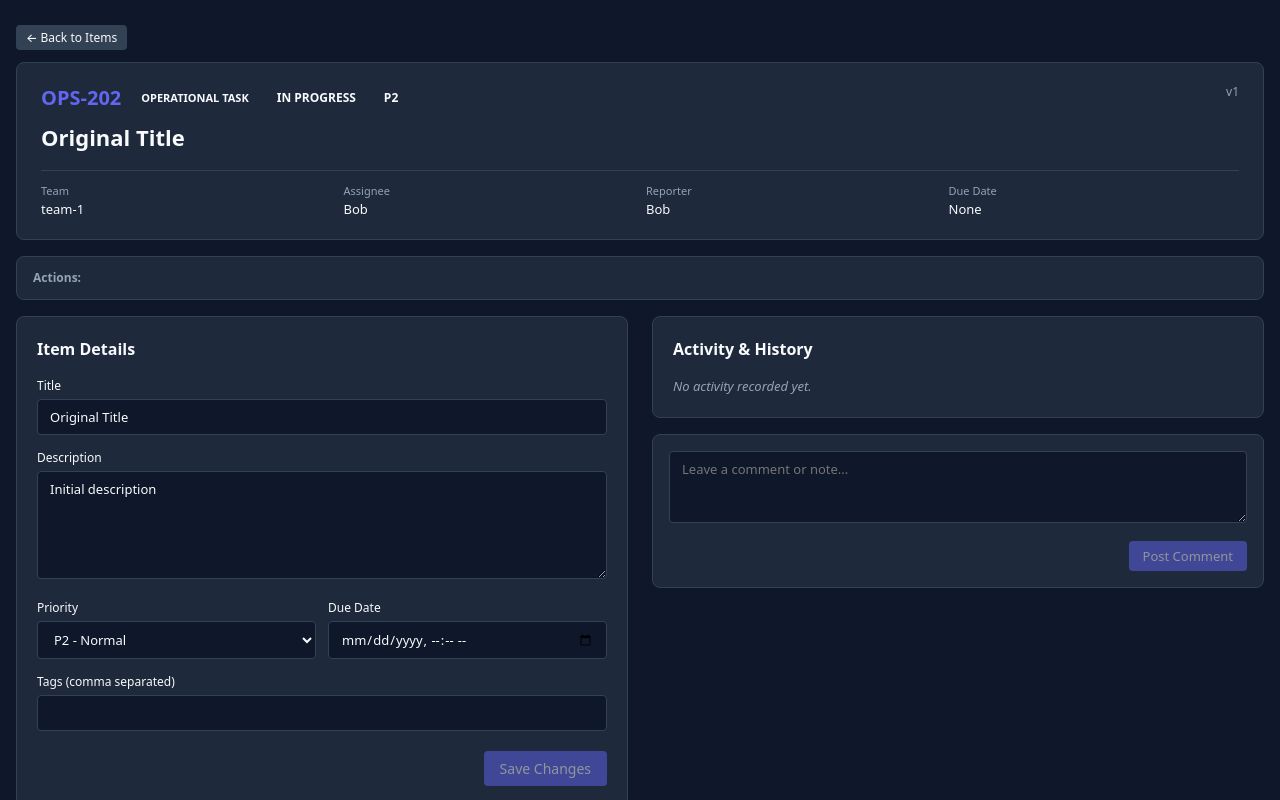
Test: conflict-banner › shows ConflictBanner on 409 version_conflict, preserves draft, and re-apply sends current version
Expected: the text "OPS-202" is shown, top-left (41, 83), bottom-right (121, 113)
User types draft changes
Step 1. Replace the text in the 1st field showing "Original Title" with "My Draft Update" → (322, 417), box top-left (37, 399), bottom-right (607, 435)
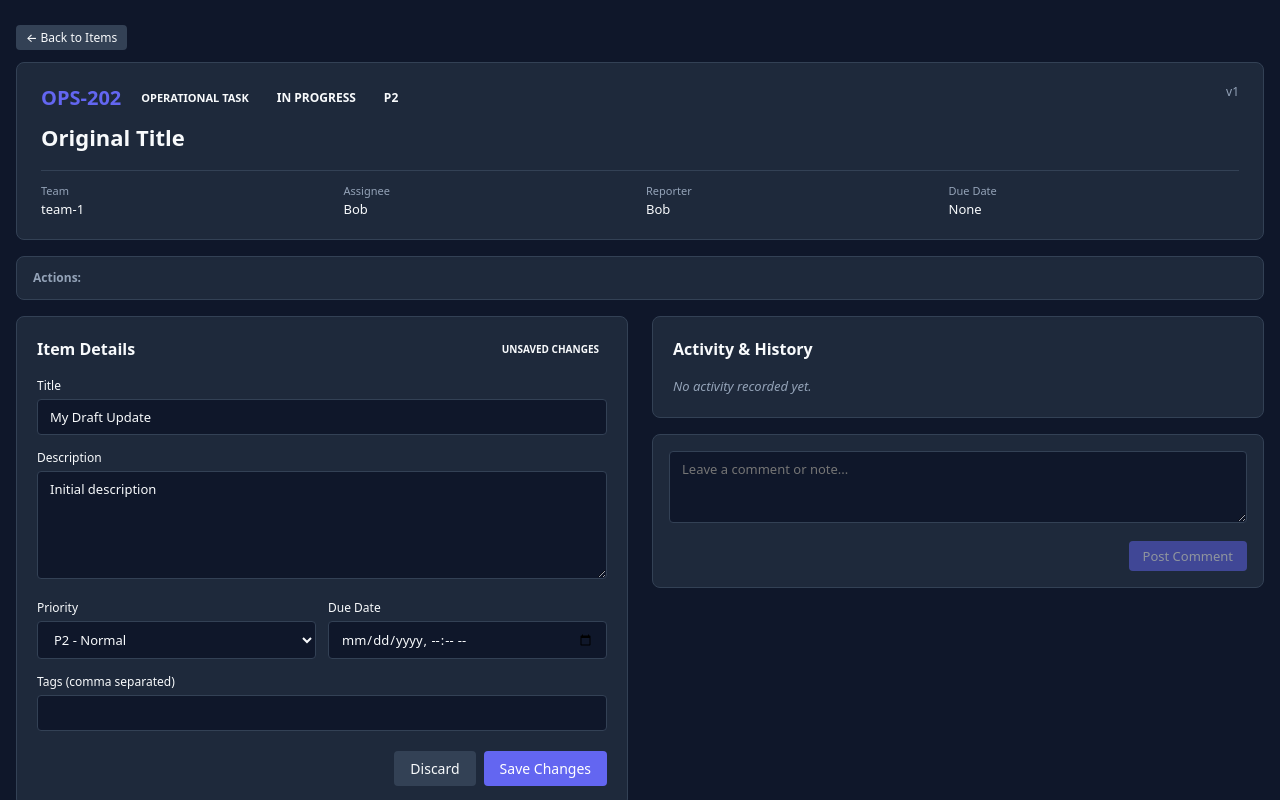
Click "Save Changes"
Step 2. Click the button "Save Changes" → (545, 768), box top-left (484, 751), bottom-right (607, 786)
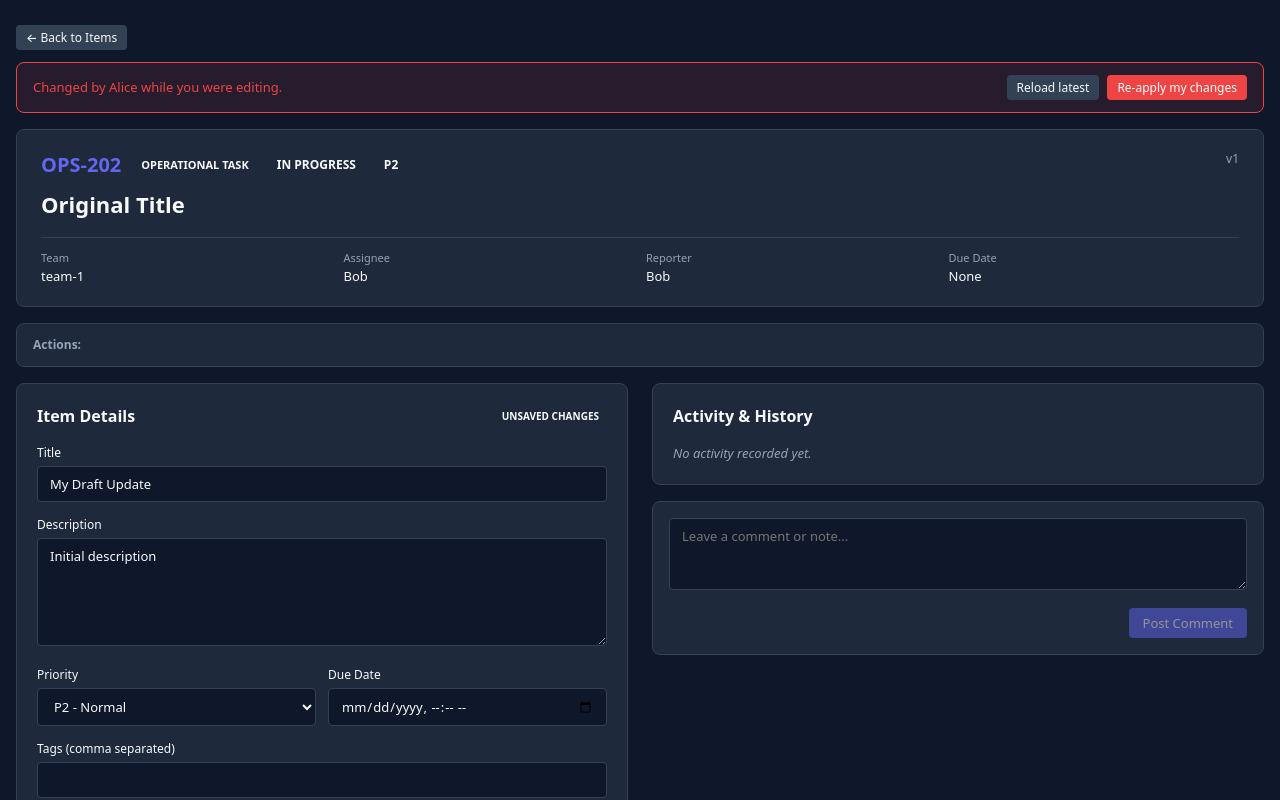
Result: the text "Changed by Alice while you were editing." is shown at top-left (33, 78), bottom-right (282, 97)
Click "Re-apply my changes"
Step 3. Click the button "Re-apply my changes" → (1177, 88), box top-left (1107, 75), bottom-right (1247, 100)
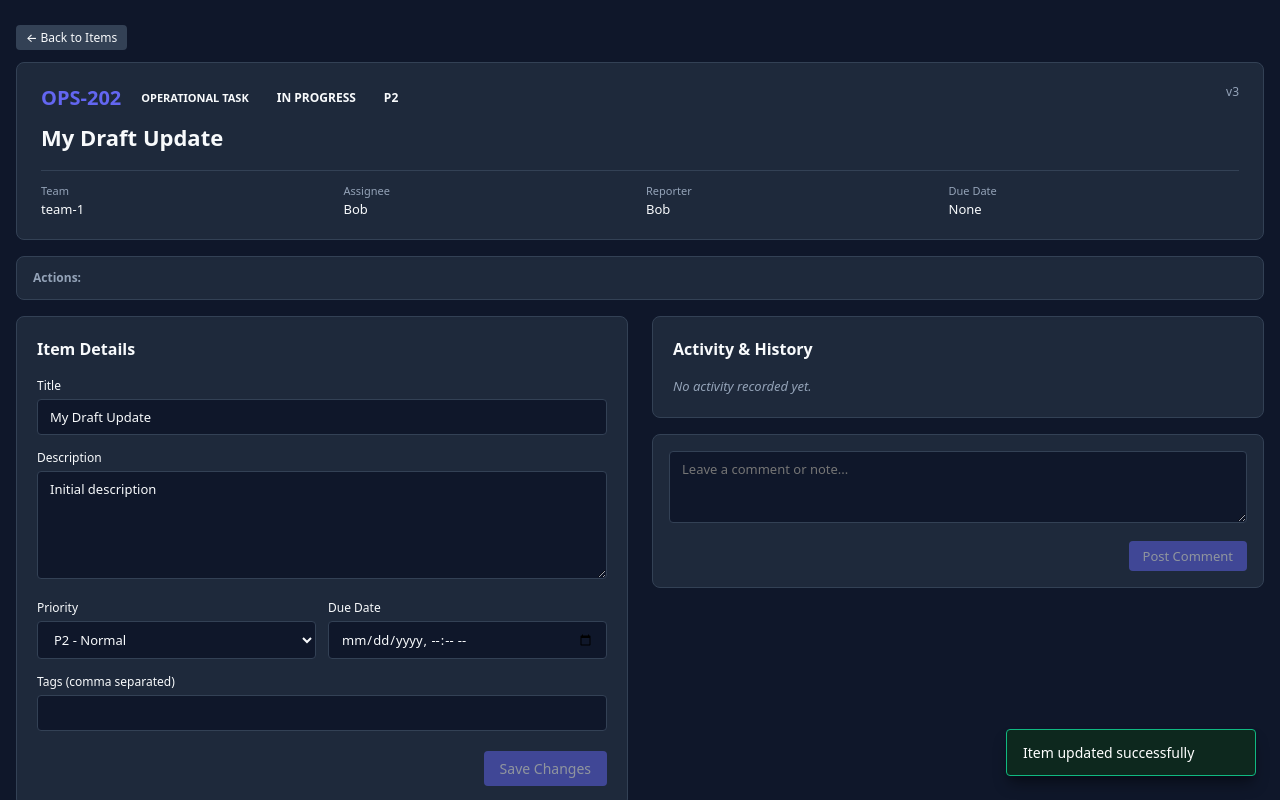
Result: the heading "My Draft Update" is shown at top-left (41, 122), bottom-right (223, 152)
Result: the text "Changed by Alice while you were editing" is gone
